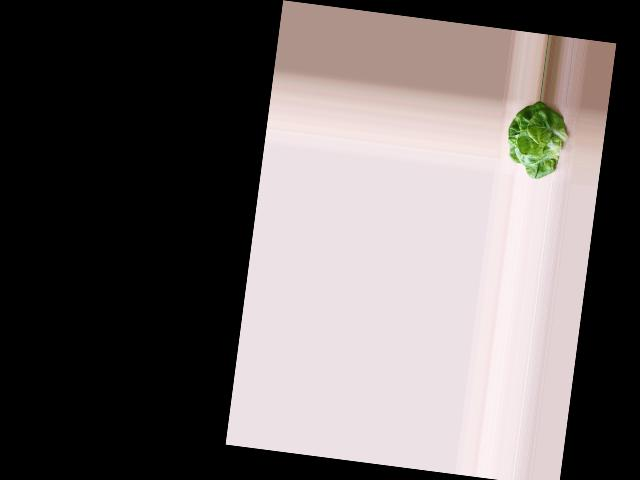lettuce: (503, 99, 569, 179)
